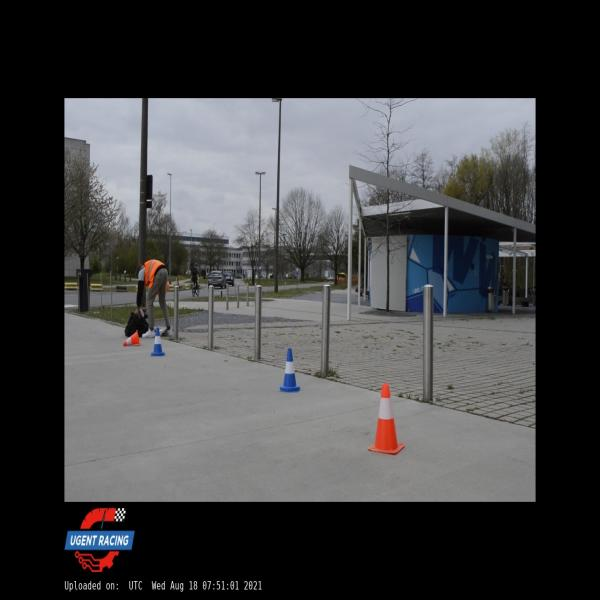blue_cone: (278, 348, 301, 392), (151, 328, 165, 357)
orange_cone: (368, 383, 405, 456), (124, 330, 140, 347)
